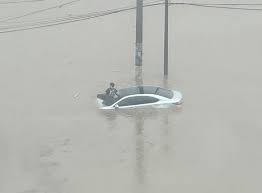water: (0, 0, 260, 192)
